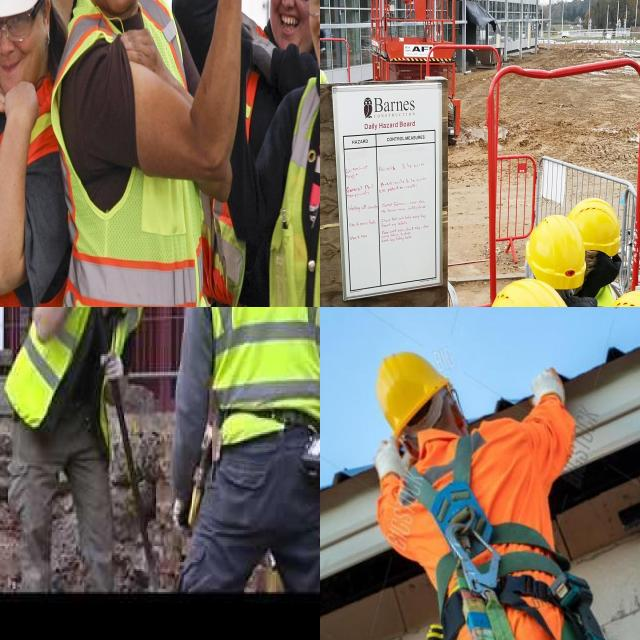Harness: (400, 432, 570, 640)
No_Ear-Protection: (39, 0, 53, 45)
face_nomask: (0, 1, 45, 99), (270, 0, 309, 56), (308, 0, 320, 80)
glasses: (0, 8, 33, 47), (300, 0, 320, 17)
hand_glove: (96, 345, 128, 391)
hand_noglove: (0, 83, 48, 132)
head_helmet: (526, 213, 586, 290), (567, 196, 622, 254), (477, 277, 583, 307)
person: (39, 0, 241, 307), (170, 307, 320, 590), (12, 307, 152, 592), (241, 0, 320, 307), (0, 0, 71, 307), (320, 55, 330, 85)
vest: (53, 0, 210, 307), (0, 37, 68, 307), (204, 81, 279, 307), (200, 307, 320, 441), (268, 83, 320, 307), (6, 307, 89, 427)
